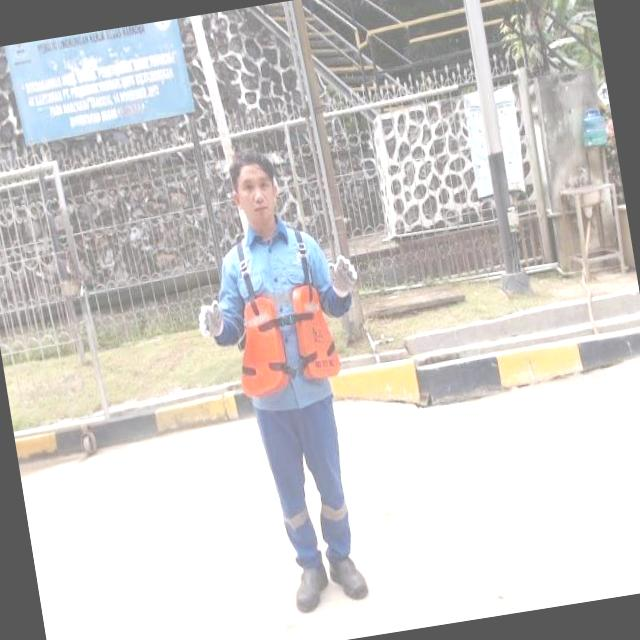vest: (230, 283, 344, 402)
